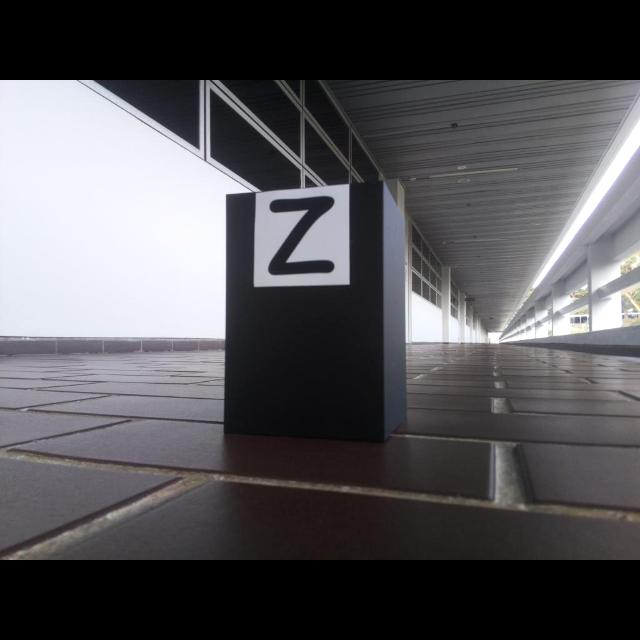Z: (268, 196, 334, 275)
